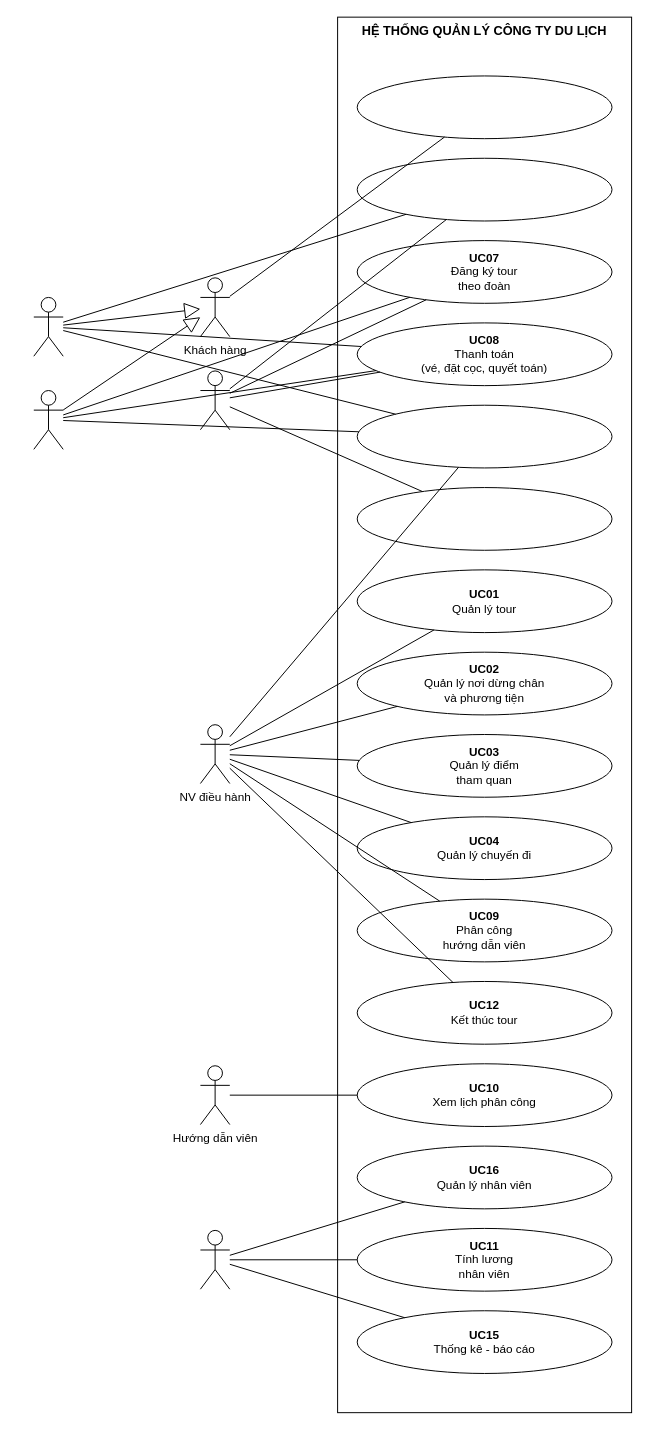
Image size: 649x1430. Some labels were removed from this diagram. Here are the shapes that lost their labels. From the top down, the centre of each, then its label:
the point at 484,107: UC14 Xem thông tin tour (website)
the point at 484,189: UC06 Đăng ký tour theo chuyến
the point at 48,326: Khách lẻ
the point at 48,419: Khách đoàn
the point at 214,400: NV bán vé
the point at 484,436: UC13 Gửi phiếu khảo sát và ghi nhận góp ý
the point at 484,518: UC05 Quản lý khách hàng
the point at 214,1259: Quản lý
